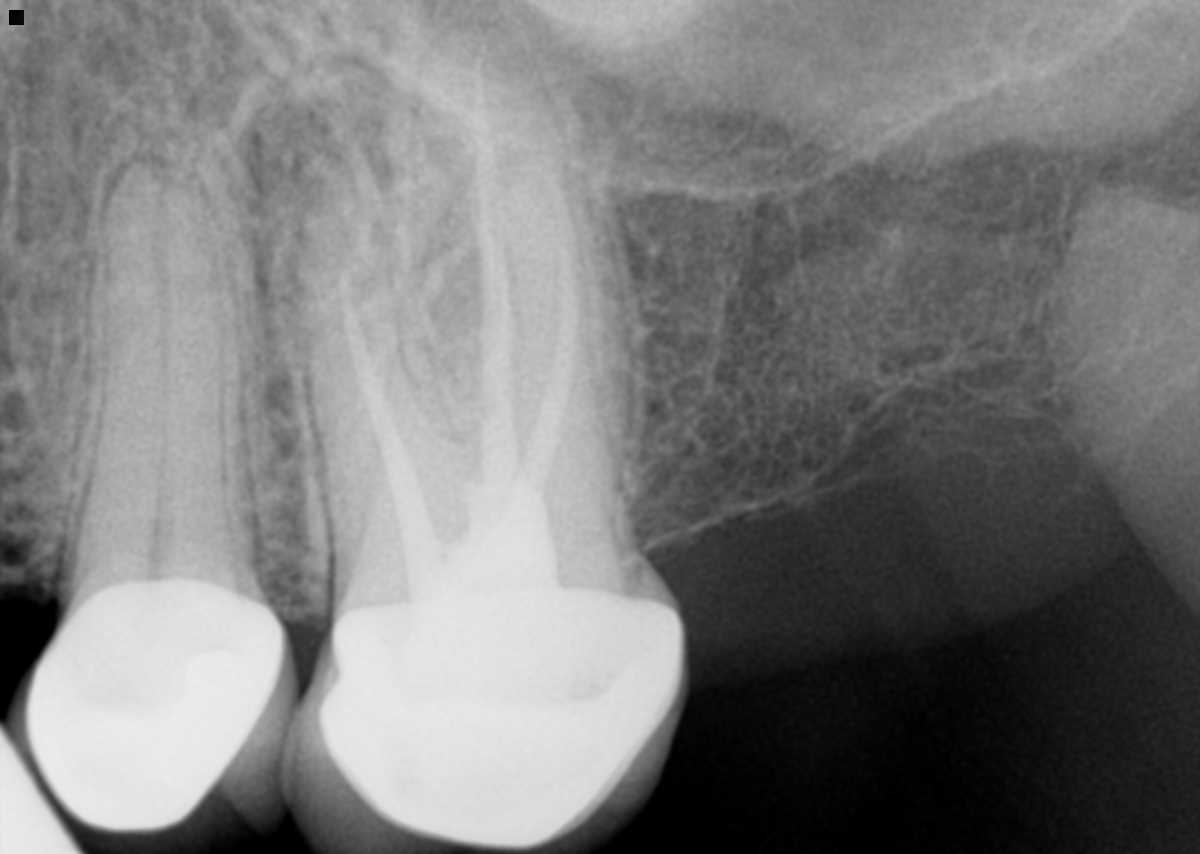Apical Lesion: (240, 61, 413, 276)
Distal Root: (481, 155, 642, 576)
Main Canal: (150, 170, 171, 584)
Main Root: (61, 151, 268, 598)
Mesial Root: (302, 176, 487, 600)
Palatal Root: (348, 24, 650, 599)
Root Canal Filling: (338, 272, 449, 600), (467, 49, 520, 512), (512, 173, 579, 496)
